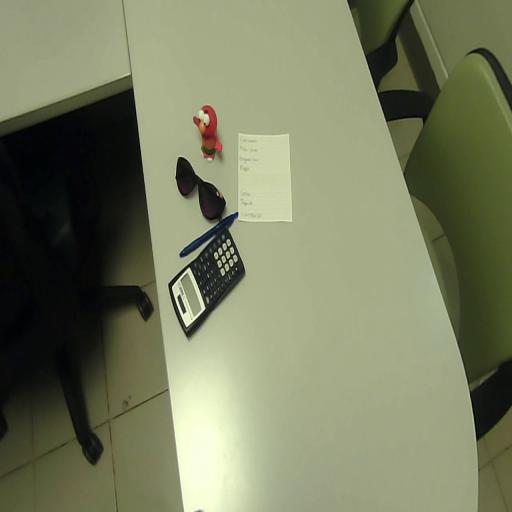pen: (180, 213, 238, 257)
